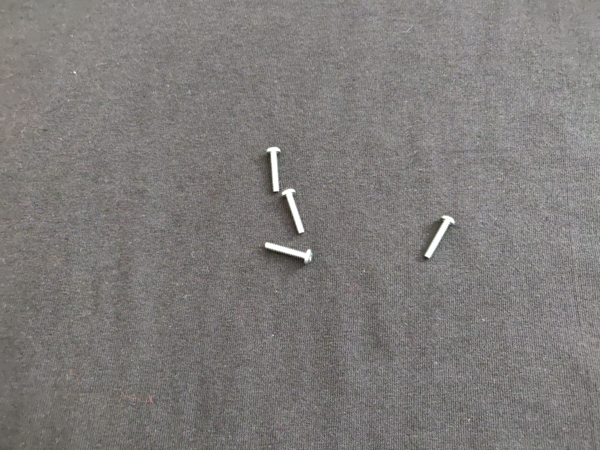longscrew: (421, 215, 457, 262), (279, 188, 308, 240), (262, 240, 318, 266), (263, 145, 285, 195)
